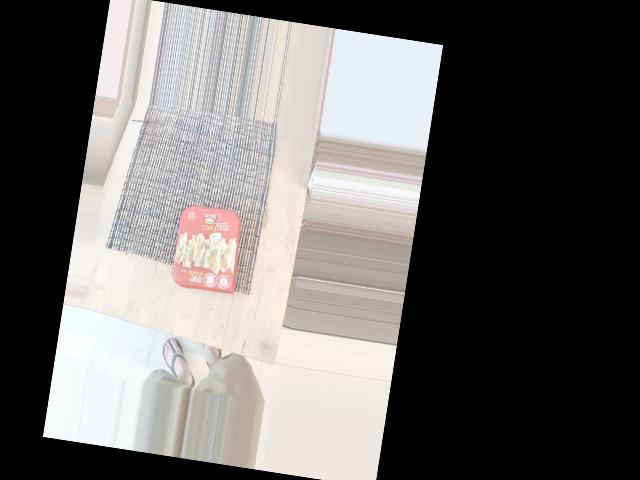cheese: (157, 197, 274, 314)
